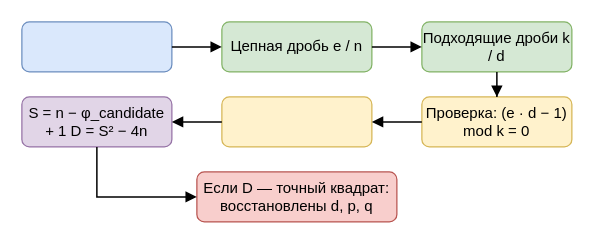
Image size: 594x244. Some labels were removed from this diagram. The centre of each missing label's shape, as x and y in pixels:
"φ_candidate = (e · d − 1) / k" belongs at (x=296, y=121).
"Известно: n, e" belongs at (x=96, y=46).
